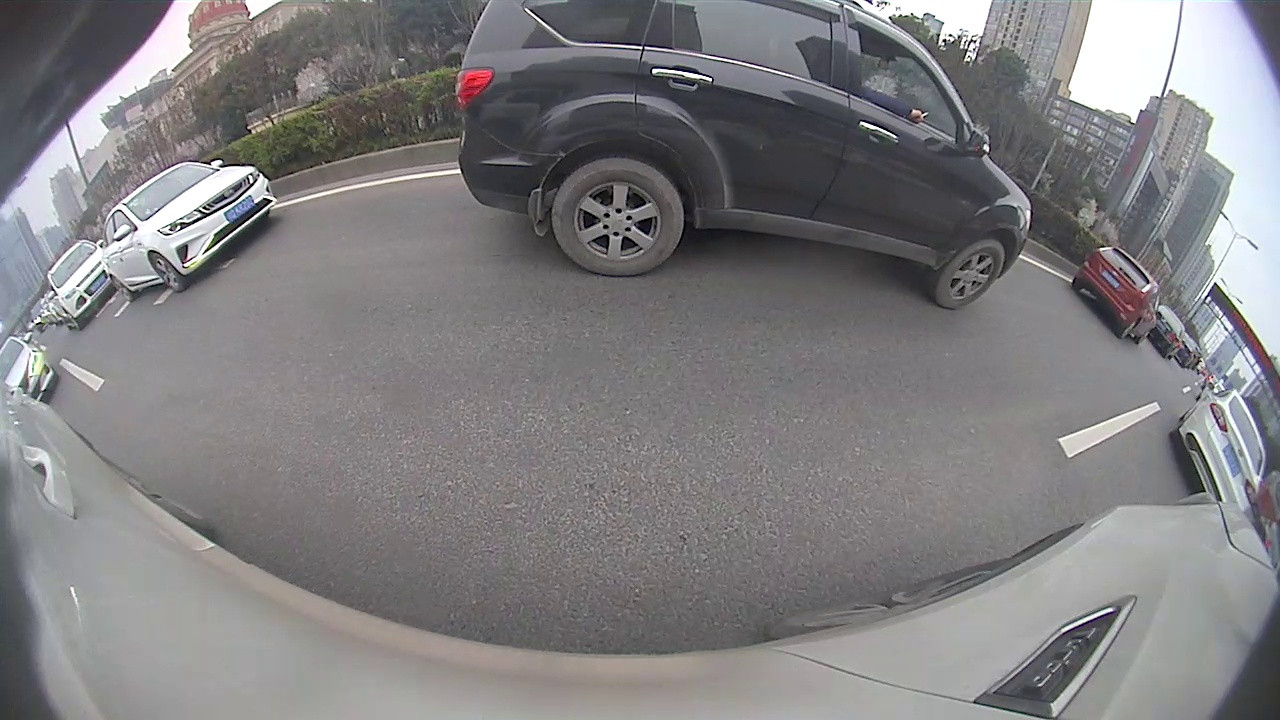car: (452, 1, 1033, 311), (99, 161, 276, 303), (1171, 388, 1267, 514), (1070, 246, 1164, 345), (44, 240, 119, 331), (1, 335, 58, 405), (1150, 304, 1186, 359)
front: (931, 238, 1007, 309), (148, 252, 185, 293)
rear: (551, 157, 684, 280), (110, 274, 136, 304)
